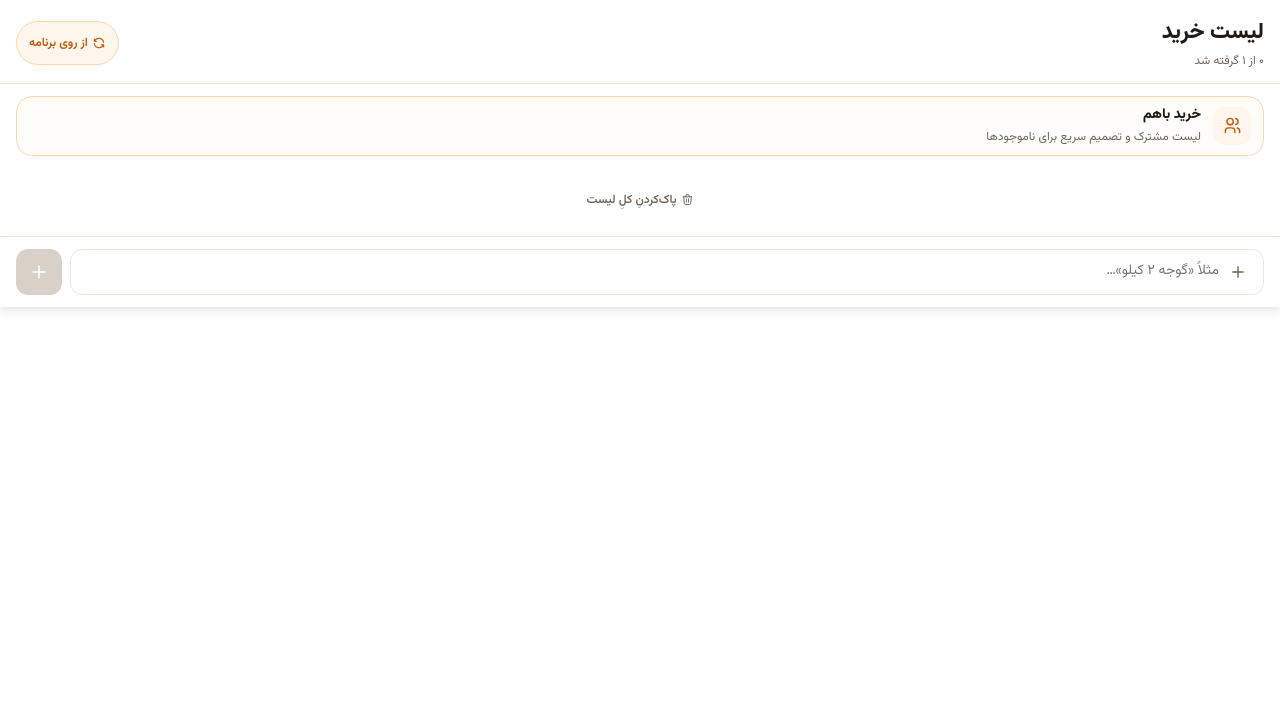
Test: ShoppingListPage smoke › shows a persistent aggregate build summary without inventing recipe-level provenance
Step 1. Click the button "از روی برنامه" → (67, 43), box [16,21,119,65]
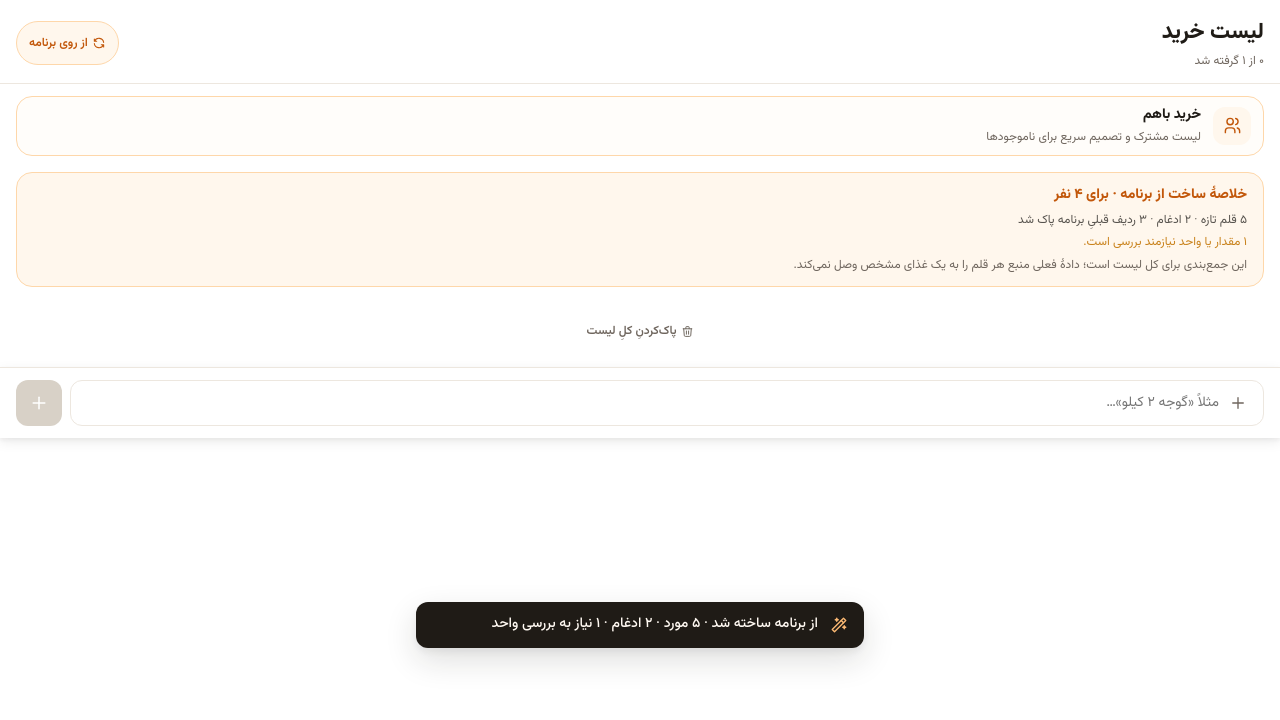
Expected: the text "خلاصهٔ ساخت از برنامه · برای ۴ نفر" is shown, [1054,184,1247,206]
Expected: the text "۵ قلم تازه · ۲ ادغام · ۳ ردیف قبلیِ برنامه پاک شد" is shown, [1018,211,1247,229]
Expected: the text "دادهٔ فعلی منبع هر قلم را به یک غذای مشخص وصل نمی‌کند" is shown, [794,256,1247,274]
